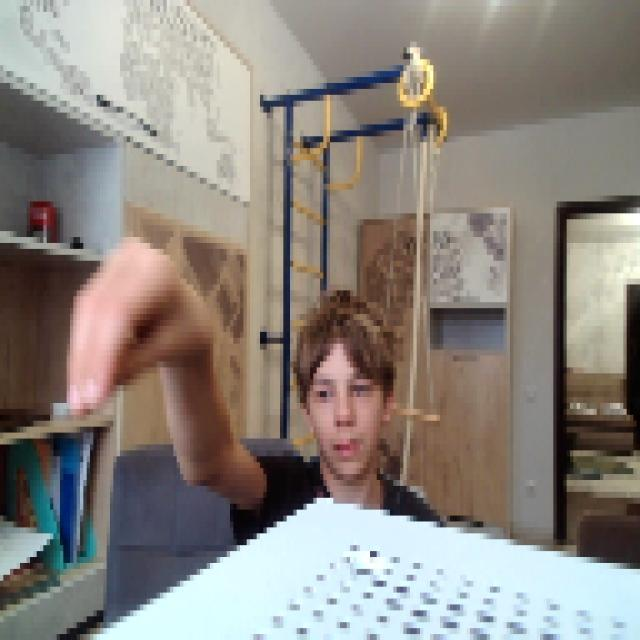left_click: (60, 225, 213, 409)
